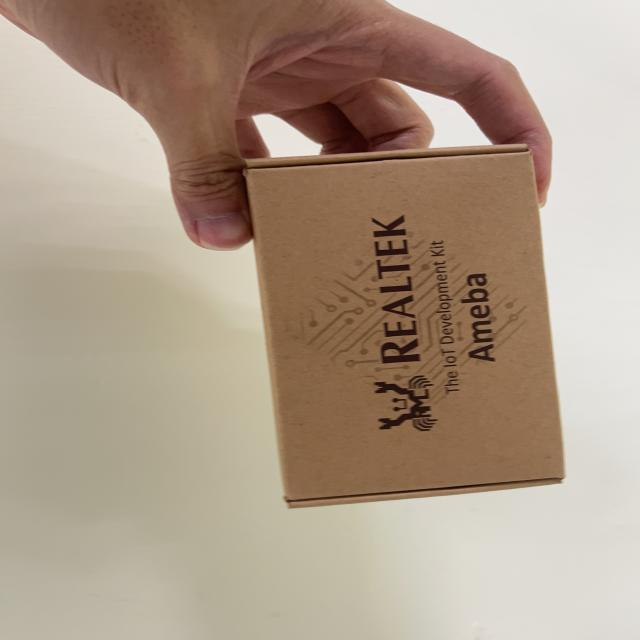box: (216, 140, 574, 524)
